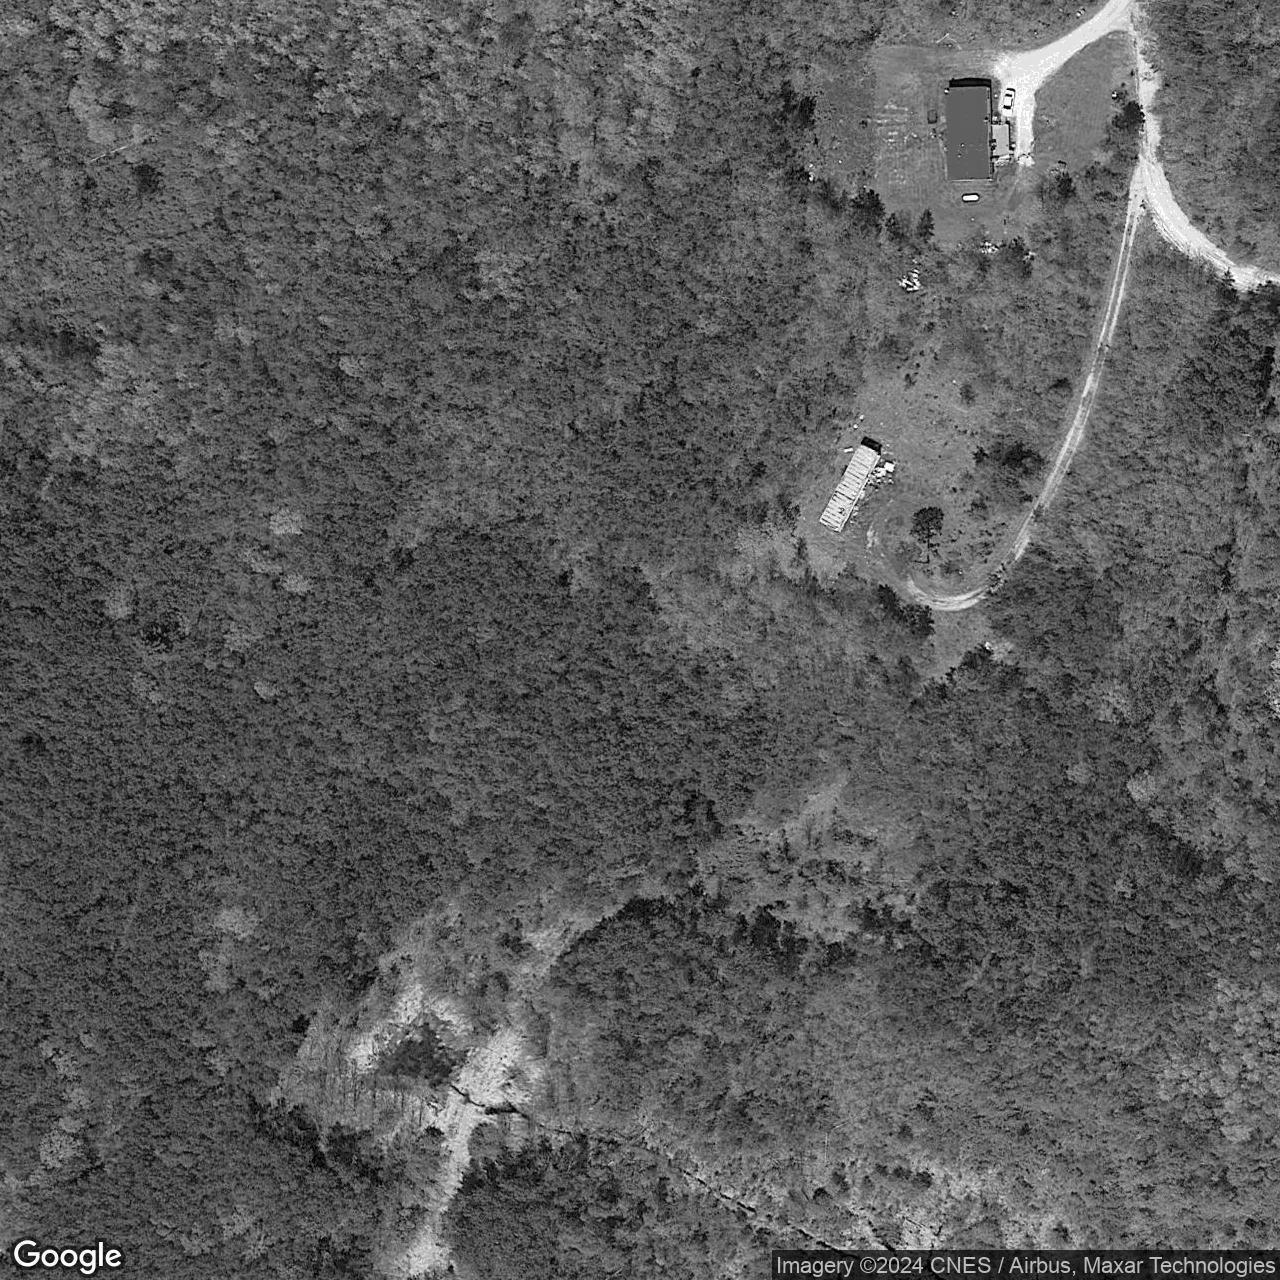House: (944, 86, 994, 183)
Propane: (961, 192, 981, 203)
Trailer: (816, 442, 881, 535)
